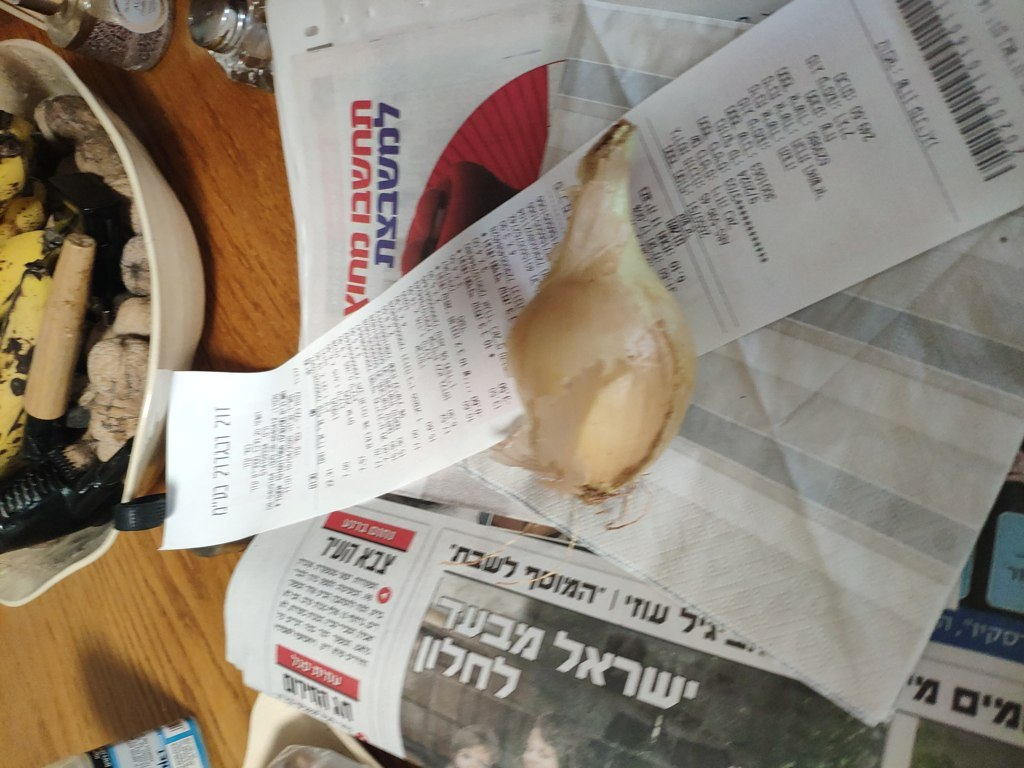Onion: (512, 248, 674, 488)
